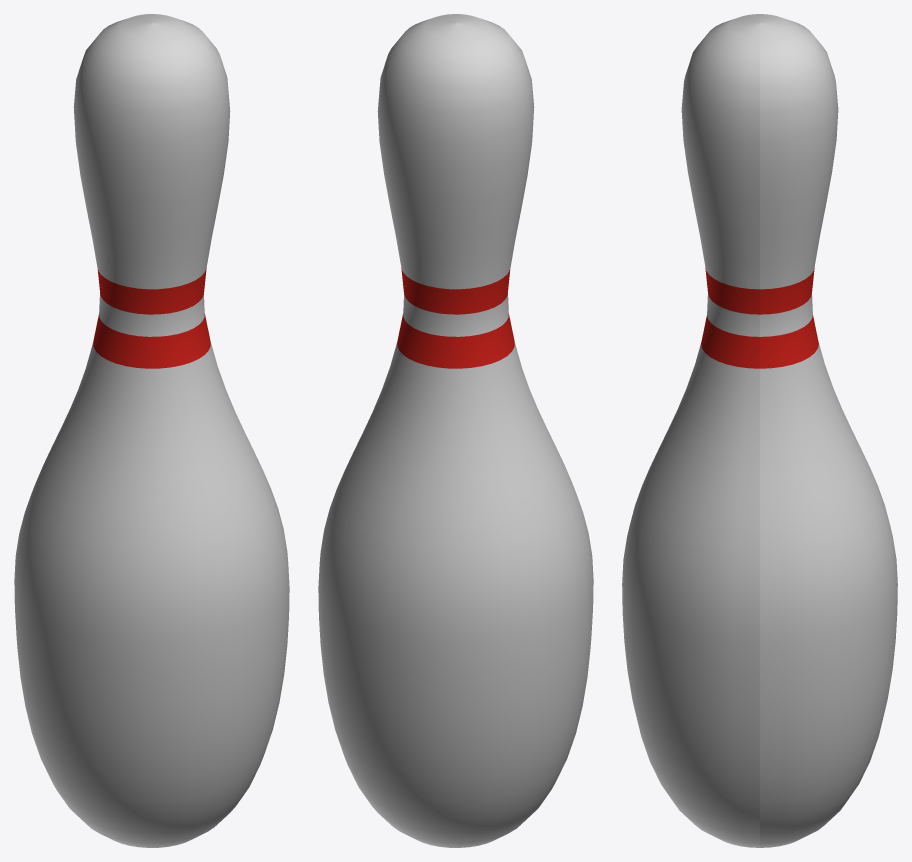
The model's file is pin.fbx.
The picture shows the model from 3 angles, left to right: view 1: azimuth 30°, elevation 25°; view 2: azimuth 150°, elevation 25°; view 3: azimuth 270°, elevation 25°; orthographic projection.
Parts seen in each view (by area): view 1: Pin 08; view 2: Pin 08; view 3: Pin 08.
Boxes of the visible parts, <box> form: Pin 08: <box>14,14,289,847</box>; Pin 08: <box>318,14,593,847</box>; Pin 08: <box>622,14,897,847</box>.
Bounding box in the file's own units: 117 × 380 × 117.
